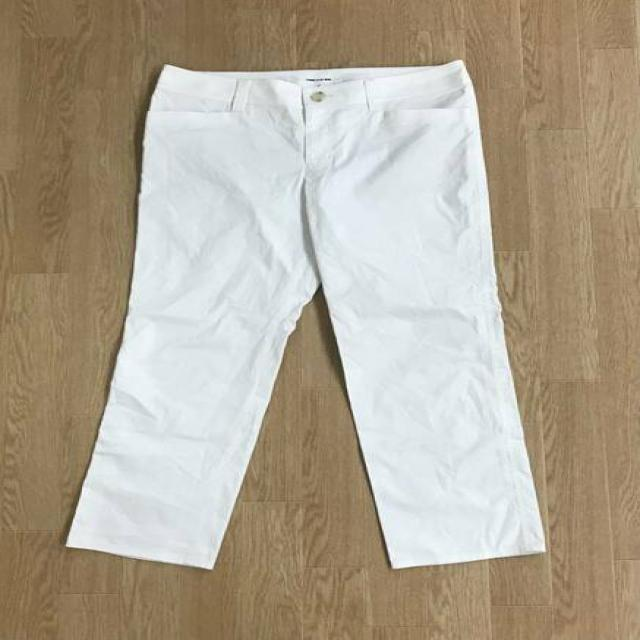long-pants: (63, 58, 549, 573)
